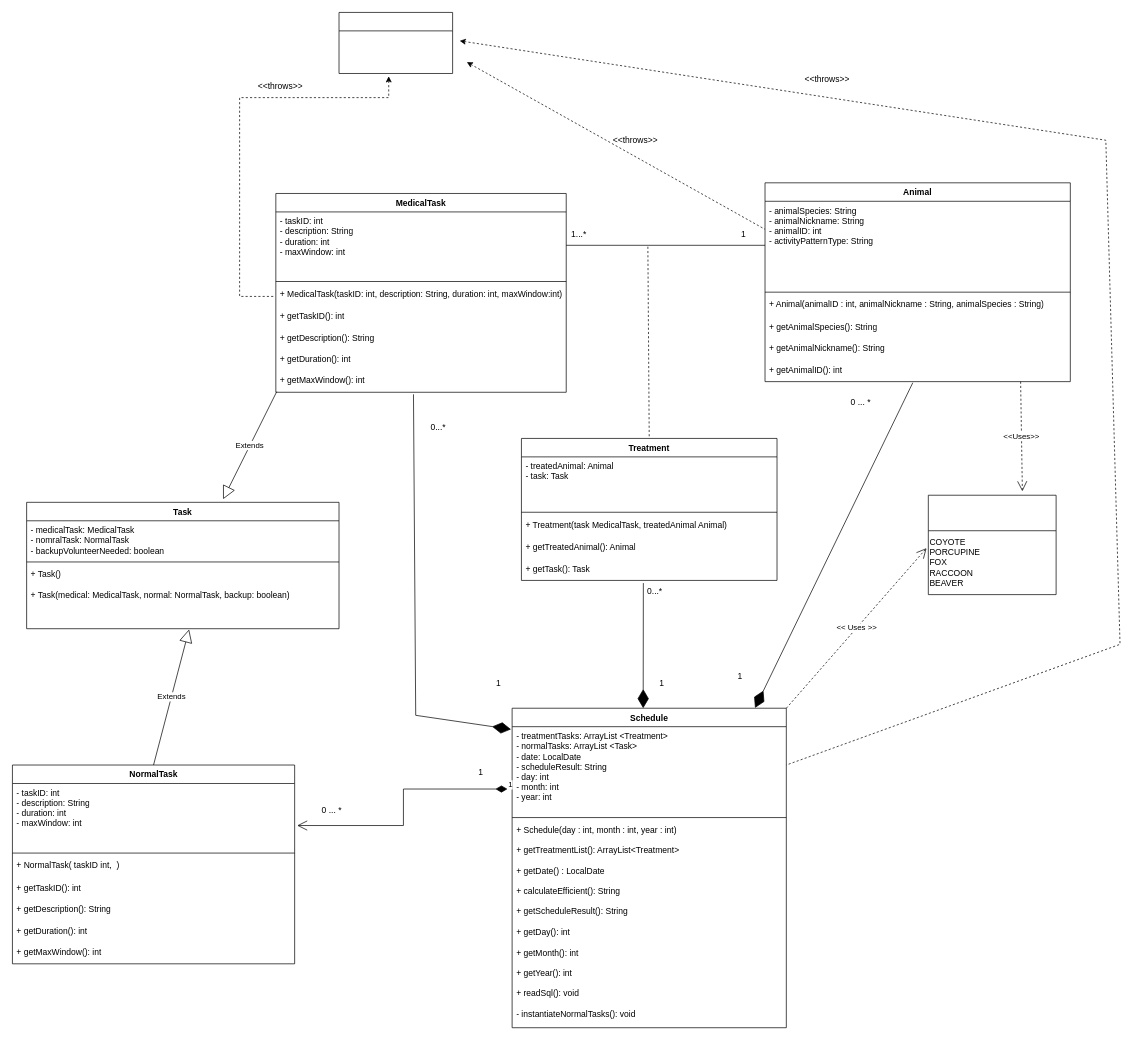
This 1138x1042 diagram has some shape labels left out. Here are the shapes that lost their labels. From the top down, the box of each, then its label:
(338, 12, 453, 73): IllegalArgumentException
(928, 495, 1056, 595): << enumeration >> AnimalInfo
